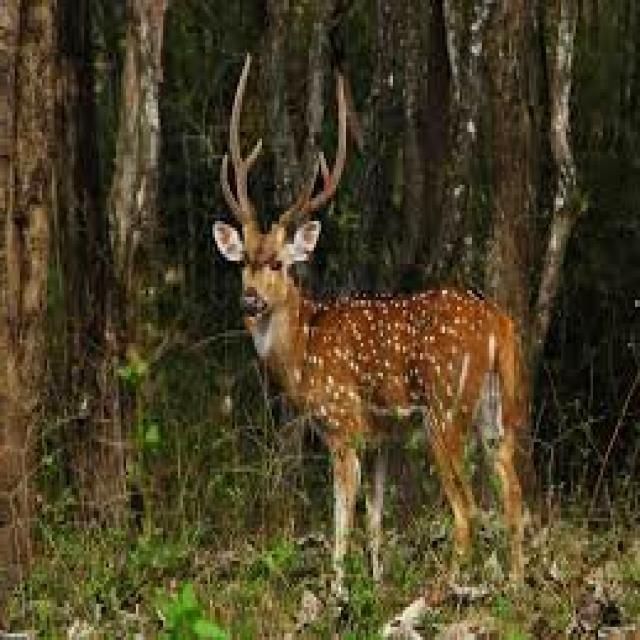deer: (215, 58, 521, 594)
